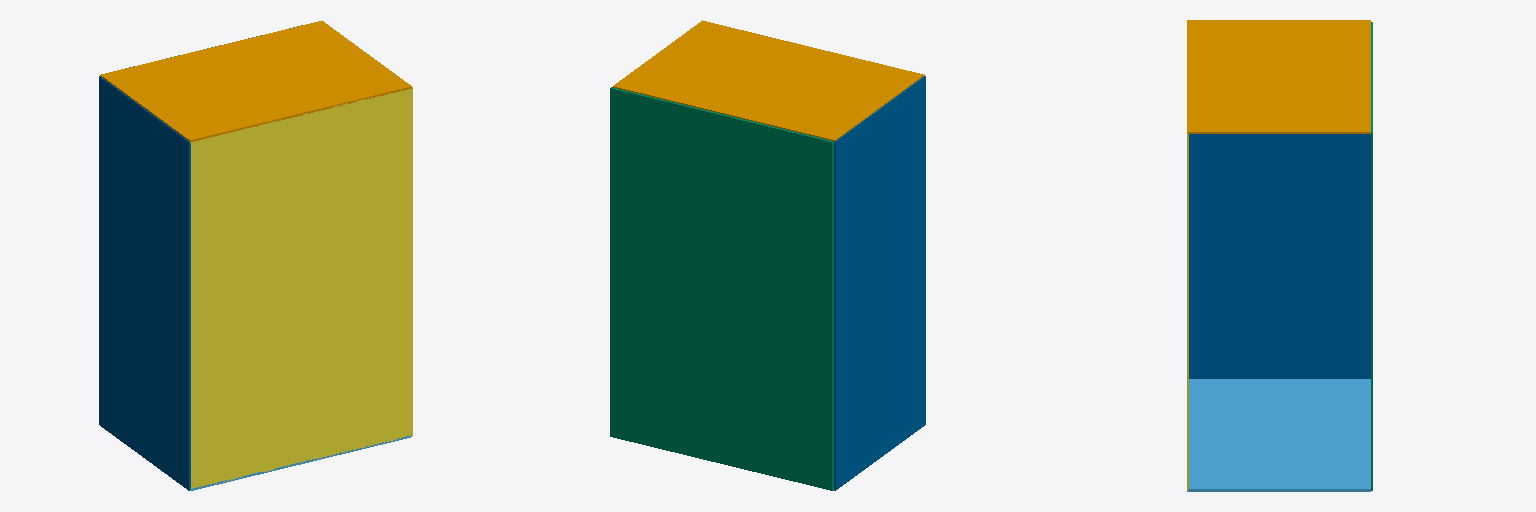
URDF robot description (GoalPost):
<?xml version="1.0" ?>
<!-- =================================================================================== -->
<!-- |    This document was autogenerated by xacro from nao_robot.xacro                | -->
<!-- |    EDITING THIS FILE BY HAND IS NOT RECOMMENDED                                 | -->
<!-- =================================================================================== -->
<!--******************************************************************
 ****** File automatically generated by generate_urdf.py script ******
 *********************************************************************-->
<robot name="GoalPost" xmlns:xacro="http://www.ros.org/wiki/xacro">


<!-- left-side -->
  <link name="left_side">
    <inertial>
		<mass value=".0"/>
		<inertia ixx="0" ixy="0" ixz="0" iyy="0" iyz="0" izz="0"/>
      <!-- <mass value="0.07842"/> -->
      <!-- <inertia ixx="1.60324e-05" ixy="1.57e-09" ixz="3.16276e-09" iyy="1.70394e-05" iyz="-5.295e-08" izz="5.53372e-06"/> -->
		<!-- <origin rpy="0 0 0" xyz="0.0 0 0.5"/> -->
    </inertial>
    <visual>
      <geometry>
        <mesh filename="goal_post/goal_post_side_col.stl" scale="0.1 0.1 0.1"/>
        <!-- <box size="1000 10 700"/> -->
        <!-- <mesh filename="goal_post/goal_post_col.stl" scale="0.1 0.1 0.1"/> -->
      </geometry>
      <origin rpy="0 0 0" xyz="4 0 7.50"/>
    </visual>
    <collision>
      <geometry>
        <!-- <mesh filename="goal_post/goal_post_col.stl" scale="0.1 0.1 0.1"/> -->
        <mesh filename="goal_post/goal_post_side_col.stl" scale="0.1 0.1 0.1"/>
      </geometry>
      <origin rpy="0 0 0" xyz="4 0 7.5"/>
    </collision>
  </link>


  <!-- right-side -->
  <link name="right_side">
    <inertial>
		<mass value=".0"/>
		<inertia ixx="0" ixy="0" ixz="0" iyy="0" iyz="0" izz="0"/>
      <!-- <mass value="0.07842"/> -->
      <!-- <inertia ixx="1.60324e-05" ixy="1.57e-09" ixz="3.16276e-09" iyy="1.70394e-05" iyz="-5.295e-08" izz="5.53372e-06"/> -->
		<!-- <origin rpy="0 0 0" xyz="0 0 0.5"/> -->
    </inertial>
    <visual>
      <geometry>
        <mesh filename="goal_post/goal_post_side_col.stl" scale="0.1 0.1 0.1"/>
        <!-- <box size="1000 10 700"/> -->
        <!-- <mesh filename="goal_post/goal_post_col.stl" scale="0.1 0.1 0.1"/> -->
      </geometry>
      <origin rpy="0 0 0" xyz="4 0 -7.5"/>
    </visual>
    <collision>
      <geometry>
        <!-- <mesh filename="goal_post/goal_post_col.stl" scale="0.1 0.1 0.1"/> -->
        <mesh filename="goal_post/goal_post_side_col.stl" scale="0.1 0.1 0.1"/>
      </geometry>
      <origin rpy="0 0 0" xyz="4 0 -7.5"/>
    </collision>
  </link>


  <!-- top-side -->
  <link name="top_side">
    <inertial>
		<mass value=".0"/>
		<inertia ixx="0" ixy="0" ixz="0" iyy="0" iyz="0" izz="0"/>
      <!-- <mass value="0.07842"/> -->
      <!-- <inertia ixx="1.60324e-05" ixy="1.57e-09" ixz="3.16276e-09" iyy="1.70394e-05" iyz="-5.295e-08" izz="5.53372e-06"/> -->
		<!-- <origin rpy="0 0 0" xyz="0 0 0.5"/> -->
    </inertial>
    <visual>
      <geometry>
        <mesh filename="goal_post/goal_post_cover_col.stl" scale="0.1 0.1 0.1"/>
        <!-- <box size="1000 10 700"/> -->
        <!-- <mesh filename="goal_post/goal_post_col.stl" scale="0.1 0.1 0.1"/> -->
      </geometry>
      <origin rpy="0 0 0" xyz="4.05 7.0 0"/>
    </visual>
    <collision>
      <geometry>
        <!-- <mesh filename="goal_post/goal_post_col.stl" scale="0.1 0.1 0.1"/> -->
        <mesh filename="goal_post/goal_post_cover_col.stl" scale="0.1 0.1 0.1"/>
      </geometry>
      <origin rpy="0 0 0" xyz="4.05 7.0 0"/>
    </collision>
  </link>  
  
  
  <!-- bottom-side -->
  <link name="bottom_side">
    <inertial>
		<mass value=".0"/>
		<inertia ixx="0" ixy="0" ixz="0" iyy="0" iyz="0" izz="0"/>
      <!-- <mass value="0.07842"/> -->
      <!-- <inertia ixx="1.60324e-05" ixy="1.57e-09" ixz="3.16276e-09" iyy="1.70394e-05" iyz="-5.295e-08" izz="5.53372e-06"/> -->
		<!-- <origin rpy="0 0 0" xyz="0 0 0.5"/> -->
    </inertial>
    <visual>
      <geometry>
        <mesh filename="goal_post/goal_post_cover_col.stl" scale="0.1 0.1 0.1"/>
        <!-- <box size="1000 10 700"/> -->
        <!-- <mesh filename="goal_post/goal_post_col.stl" scale="0.1 0.1 0.1"/> -->
      </geometry>
      <origin rpy="0 0 0" xyz="4.05 0 0"/>
    </visual>
    <collision>
      <geometry>
        <!-- <mesh filename="goal_post/goal_post_col.stl" scale="0.1 0.1 0.1"/> -->
        <mesh filename="goal_post/goal_post_cover_col.stl" scale="0.1 0.1 0.1"/>
      </geometry>
      <origin rpy="0 0 0" xyz="4.05 0 0"/>
    </collision>
  </link>

  <!-- back-side -->
  <link name="back_side">
    <inertial>
		<mass value=".0"/>
		<inertia ixx="0" ixy="0" ixz="0" iyy="0" iyz="0" izz="0"/>
      <!-- <mass value="0.07842"/> -->
      <!-- <inertia ixx="1.60324e-05" ixy="1.57e-09" ixz="3.16276e-09" iyy="1.70394e-05" iyz="-5.295e-08" izz="5.53372e-06"/> -->
		<origin rpy="0 0 0" xyz="0 0 0.5"/>
    </inertial>
    <visual>
      <geometry>
        <mesh filename="goal_post/goal_post_back_col.stl" scale="0.1 0.1 0.1"/>
        <!-- <box size="1000 10 700"/> -->
        <!-- <mesh filename="goal_post/goal_post_col.stl" scale="0.1 0.1 0.1"/> -->
      </geometry>
      <origin rpy="0 0 0" xyz="0 0 0"/>
    </visual>
    <collision>
      <geometry>
        <!-- <mesh filename="goal_post/goal_post_col.stl" scale="0.1 0.1 0.1"/> -->
        <mesh filename="goal_post/goal_post_back_col.stl" scale="0.1 0.1 0.1"/>
      </geometry>
      <origin rpy="0 0 0" xyz="0 0 0"/>
    </collision>
  </link>

  <joint name="link_right_side_back" type="fixed">
    <origin rpy="0 0 0" xyz="1.0 0 0"/>
    <parent link="back_side"/>
    <child link="left_side"/>
  </joint>

  <joint name="link_left_side_back" type="fixed">
    <origin rpy="0 0 0" xyz="1.0 0 0"/>
    <parent link="back_side"/>
    <child link="right_side"/>
  </joint>

  <joint name="link_top_side_back" type="fixed">
    <origin rpy="0 0 0" xyz="1.0 0 0"/>
    <parent link="back_side"/>
    <child link="top_side"/>
  </joint>

  <joint name="link_bottom_side_back" type="fixed">
    <origin rpy="0 0 0" xyz="1.0 0 0"/>
    <parent link="back_side"/>
    <child link="bottom_side"/>
  </joint>
  
</robot>

--- Facts derived from the render (not from the file) ---
Views: 3 orthographic renders of the robot side by side, from view 1: azimuth 30°, elevation 25°; view 2: azimuth 150°, elevation 25°; view 3: azimuth 270°, elevation 25°.
Model GoalPost with 5 links and 4 joints (4 fixed), rooted at back_side, posed every joint at zero.
Links seen in each view (by area): view 1: bottom_side, back_side, left_side; view 2: top_side, back_side, left_side; view 3: back_side, left_side, right_side, top_side, bottom_side.
Boxes of the visible links, bbox=[...] form: bottom_side: bbox=[191, 87, 412, 488]; back_side: bbox=[99, 76, 190, 489]; left_side: bbox=[100, 21, 411, 142]; top_side: bbox=[610, 87, 833, 490]; back_side: bbox=[834, 76, 925, 490]; left_side: bbox=[613, 20, 924, 142]; back_side: bbox=[1189, 134, 1370, 378]; left_side: bbox=[1187, 20, 1370, 133]; right_side: bbox=[1187, 379, 1370, 491]; top_side: bbox=[1371, 22, 1372, 490]; bottom_side: bbox=[1187, 133, 1188, 490].
Size in the robot's own frame: 10.1 by 7.1 by 15.1 metres.
Meshes: 3 distinct files referenced, 5 mesh visuals loaded (3 binary STL).